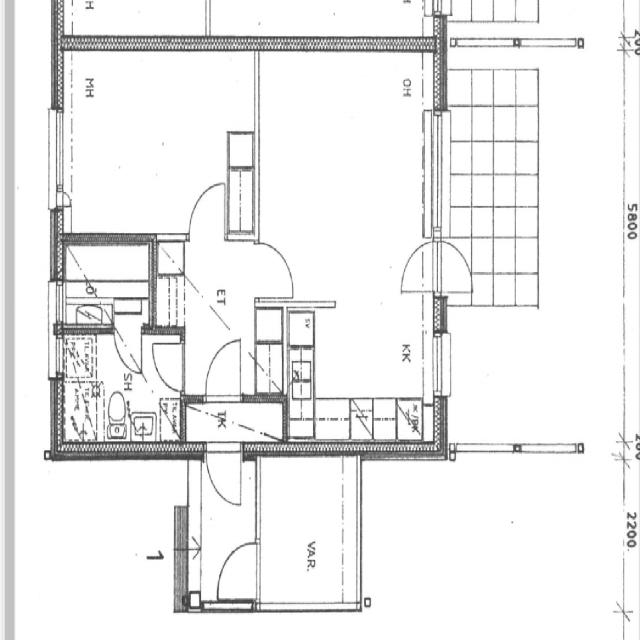door: (253, 232, 301, 303), (216, 534, 261, 604), (204, 333, 247, 406), (183, 172, 229, 240), (203, 441, 246, 512), (434, 233, 477, 302), (147, 331, 188, 395), (397, 240, 432, 298)
window: (420, 105, 450, 237), (46, 101, 68, 205), (448, 435, 520, 462), (430, 331, 455, 402), (262, 598, 338, 615), (48, 271, 66, 327), (49, 332, 63, 379)
zone: (254, 45, 433, 296), (57, 49, 254, 240), (286, 300, 446, 447), (255, 452, 362, 610), (55, 328, 185, 453), (58, 237, 155, 329), (215, 534, 260, 603)
